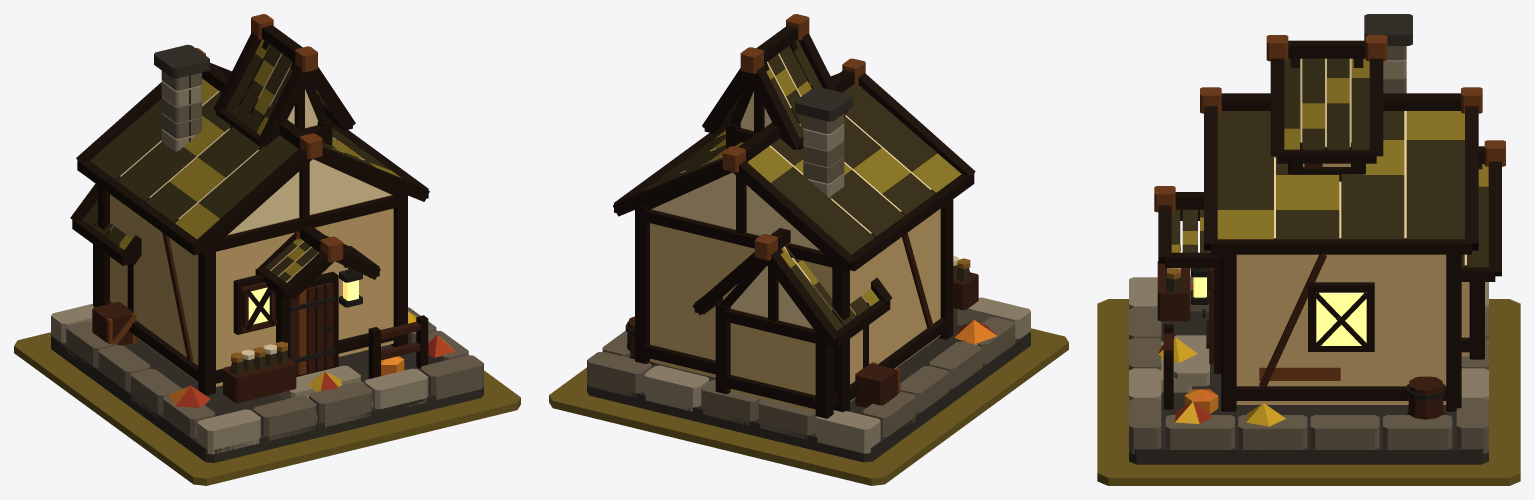
Rendered from cottage_t5.glb.
3 views of the same model, side by side, from view 1: azimuth 30°, elevation 25°; view 2: azimuth 150°, elevation 25°; view 3: azimuth 270°, elevation 25° (orthographic). The views are drawn at different scales.
Parts seen in each view (by area): view 1: MMR | cottage | T05 Architecture.001, MMR | cottage | Tier 05 Ground.001, MMR | cottage | T05 Autumn Dressing.001; view 2: MMR | cottage | T05 Architecture.001, MMR | cottage | Tier 05 Ground.001, MMR | cottage | T05 Autumn Dressing.001; view 3: MMR | cottage | T05 Architecture.001, MMR | cottage | Tier 05 Ground.001, MMR | cottage | T05 Autumn Dressing.001.
Boxes of the visible parts, bbox=[...] form: MMR | cottage | T05 Architecture.001: bbox=[51, 14, 483, 462]; MMR | cottage | Tier 05 Ground.001: bbox=[14, 332, 520, 485]; MMR | cottage | T05 Autumn Dressing.001: bbox=[169, 311, 455, 407]; MMR | cottage | T05 Architecture.001: bbox=[587, 14, 1030, 462]; MMR | cottage | Tier 05 Ground.001: bbox=[549, 328, 1068, 485]; MMR | cottage | T05 Autumn Dressing.001: bbox=[954, 320, 997, 344]; MMR | cottage | T05 Architecture.001: bbox=[1129, 14, 1505, 464]; MMR | cottage | Tier 05 Ground.001: bbox=[1097, 299, 1520, 485]; MMR | cottage | T05 Autumn Dressing.001: bbox=[1158, 285, 1285, 426].
Bounding box in the file's own units: 2.35 × 2.27 × 2.35.
2 materials, 1 textured.
